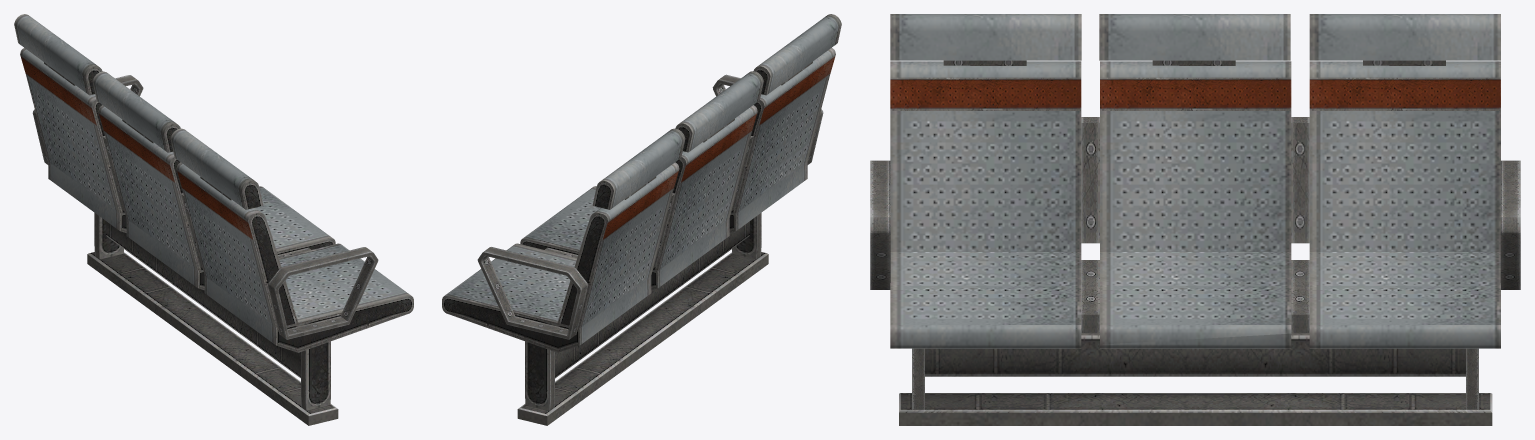
Rendered from Bench_01b.FBX.
The picture shows the model from 3 angles, left to right: view 1: azimuth 30°, elevation 25°; view 2: azimuth 150°, elevation 25°; view 3: azimuth 270°, elevation 25°; orthographic projection. The views are drawn at different scales.
Visible parts, largest first — view 1: Bench_01b; view 2: Bench_01b; view 3: Bench_01b.
Boxes of the visible parts, <box> form: Bench_01b: <box>14,14,413,425</box>; Bench_01b: <box>442,14,841,425</box>; Bench_01b: <box>870,14,1520,425</box>.
Size of the model in its own units: 0.6329 by 0.9218 by 1.55.
